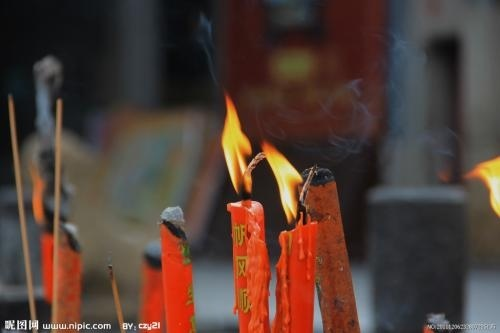fire: (219, 92, 254, 196), (262, 141, 303, 221), (468, 150, 500, 220)
